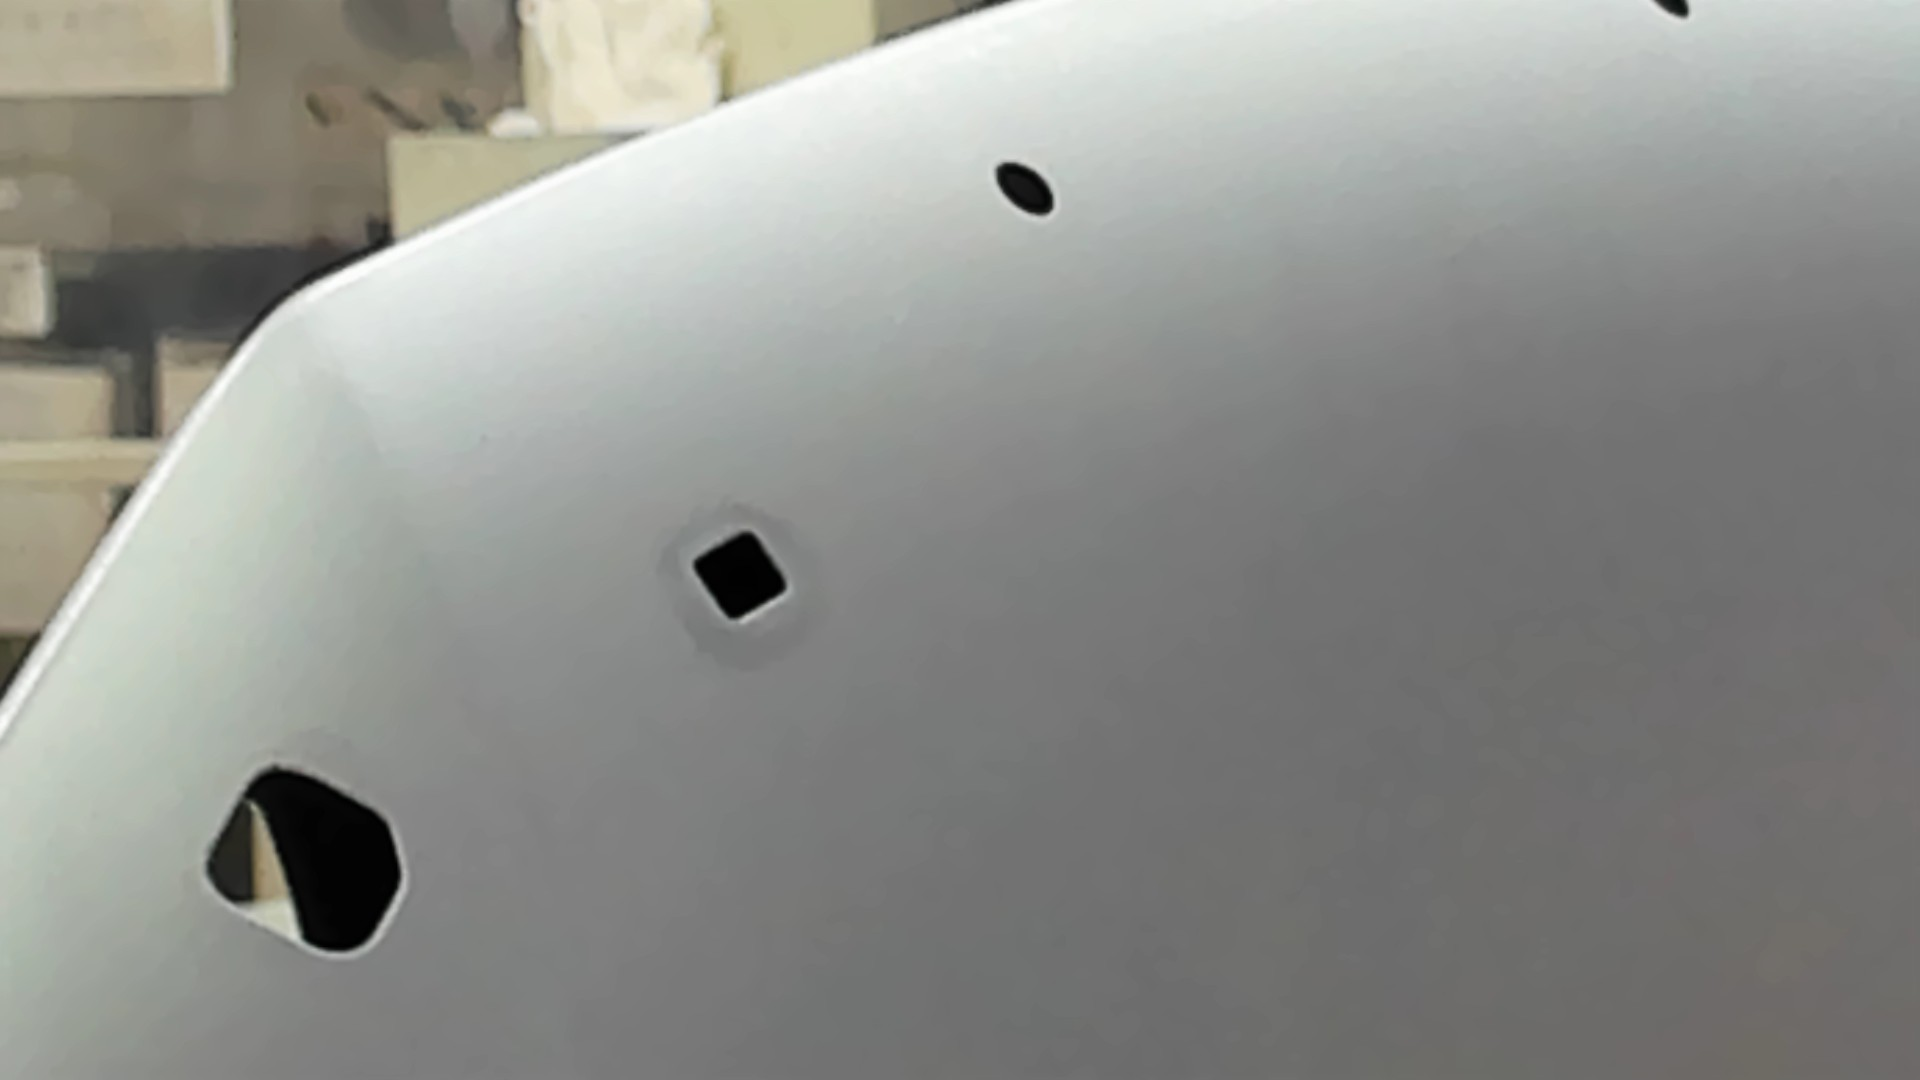capo: (822, 244, 1920, 1080)
chico: (992, 156, 1059, 220)
grande: (196, 756, 415, 967)
mediano: (684, 522, 795, 628)
